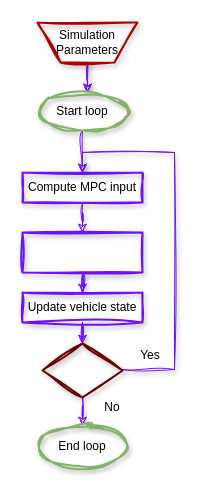
This 206x491 diagram has some shape labels left out. Each missing label, with the centre of its shape:
"Propagate vehicle dynamics" goes at (x=83, y=253).
"t < sim time" goes at (x=83, y=371).
